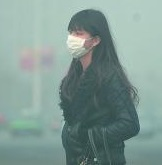person: (58, 7, 142, 165)
